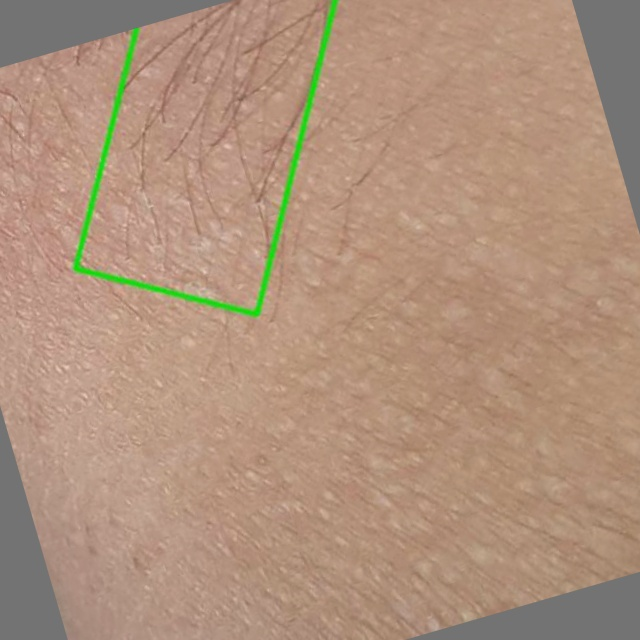Contact Dermatitis: (74, 0, 334, 314)
